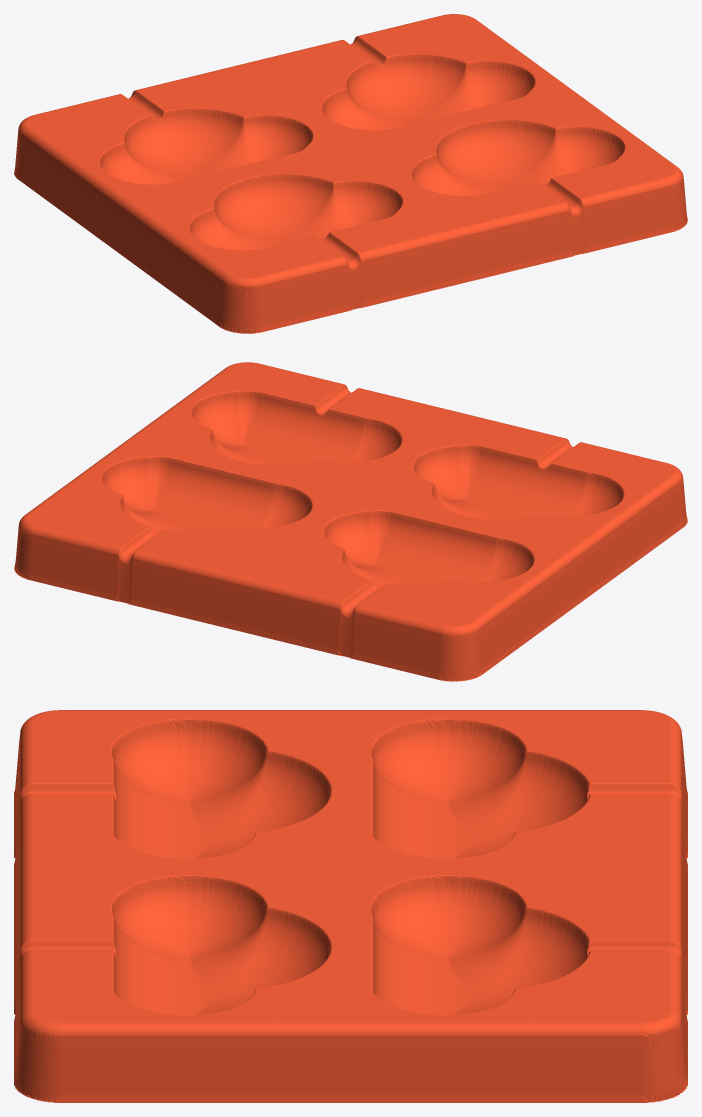
File: mold.glb
3 renders of one model, top to bottom at view 1: azimuth 30°, elevation 25°; view 2: azimuth 150°, elevation 25°; view 3: azimuth 270°, elevation 25°, orthographic. The views are drawn at different scales.
Visible parts, largest first — view 1: geometry_0; view 2: geometry_0; view 3: geometry_0.
Part boxes in pixels (x1,y1,x2,y2): geometry_0: [14, 14, 687, 333]; geometry_0: [14, 362, 687, 681]; geometry_0: [14, 710, 687, 1102].
Bounding box in the file's own units: 0.1497 × 0.0155 × 0.1304.
